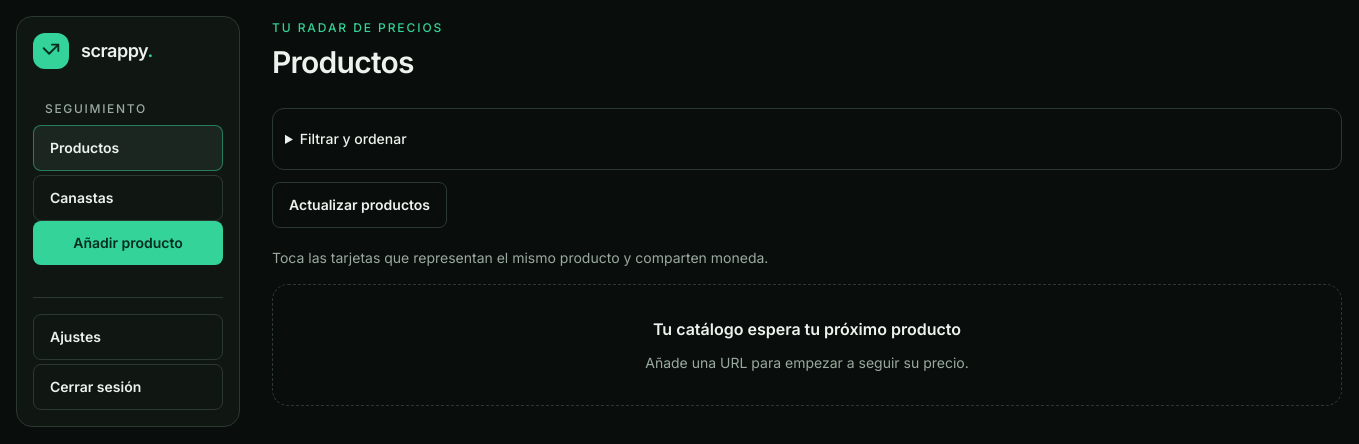
independent catalog › has an empty catalog and allows adding without a basket
expect the heading "Tu catálogo espera tu próximo producto" is shown: met, box x1=653 y1=319 x2=961 y2=339
Click the button "Añadir producto" at (128, 243), box x1=33 y1=221 x2=223 y2=265
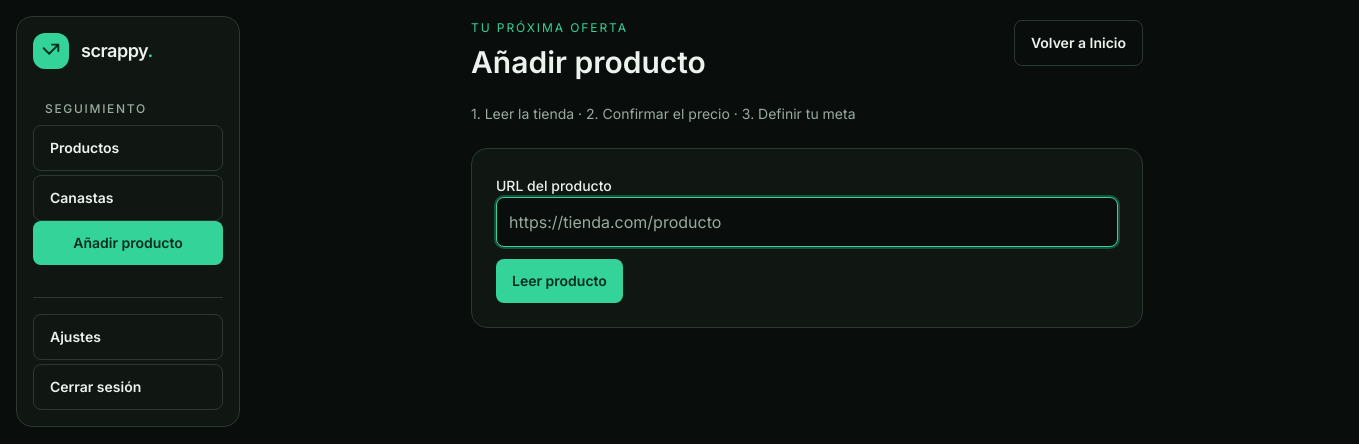
expect the heading "Añadir producto" is shown: met, box x1=471 y1=44 x2=706 y2=80
